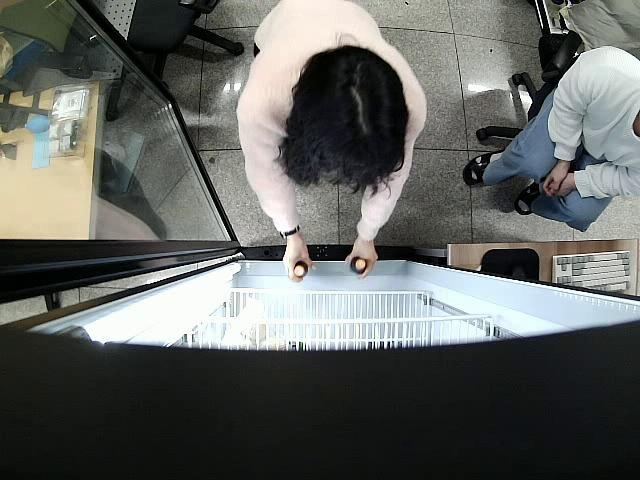17_vita500: (344, 253, 368, 276), (290, 261, 312, 282)
